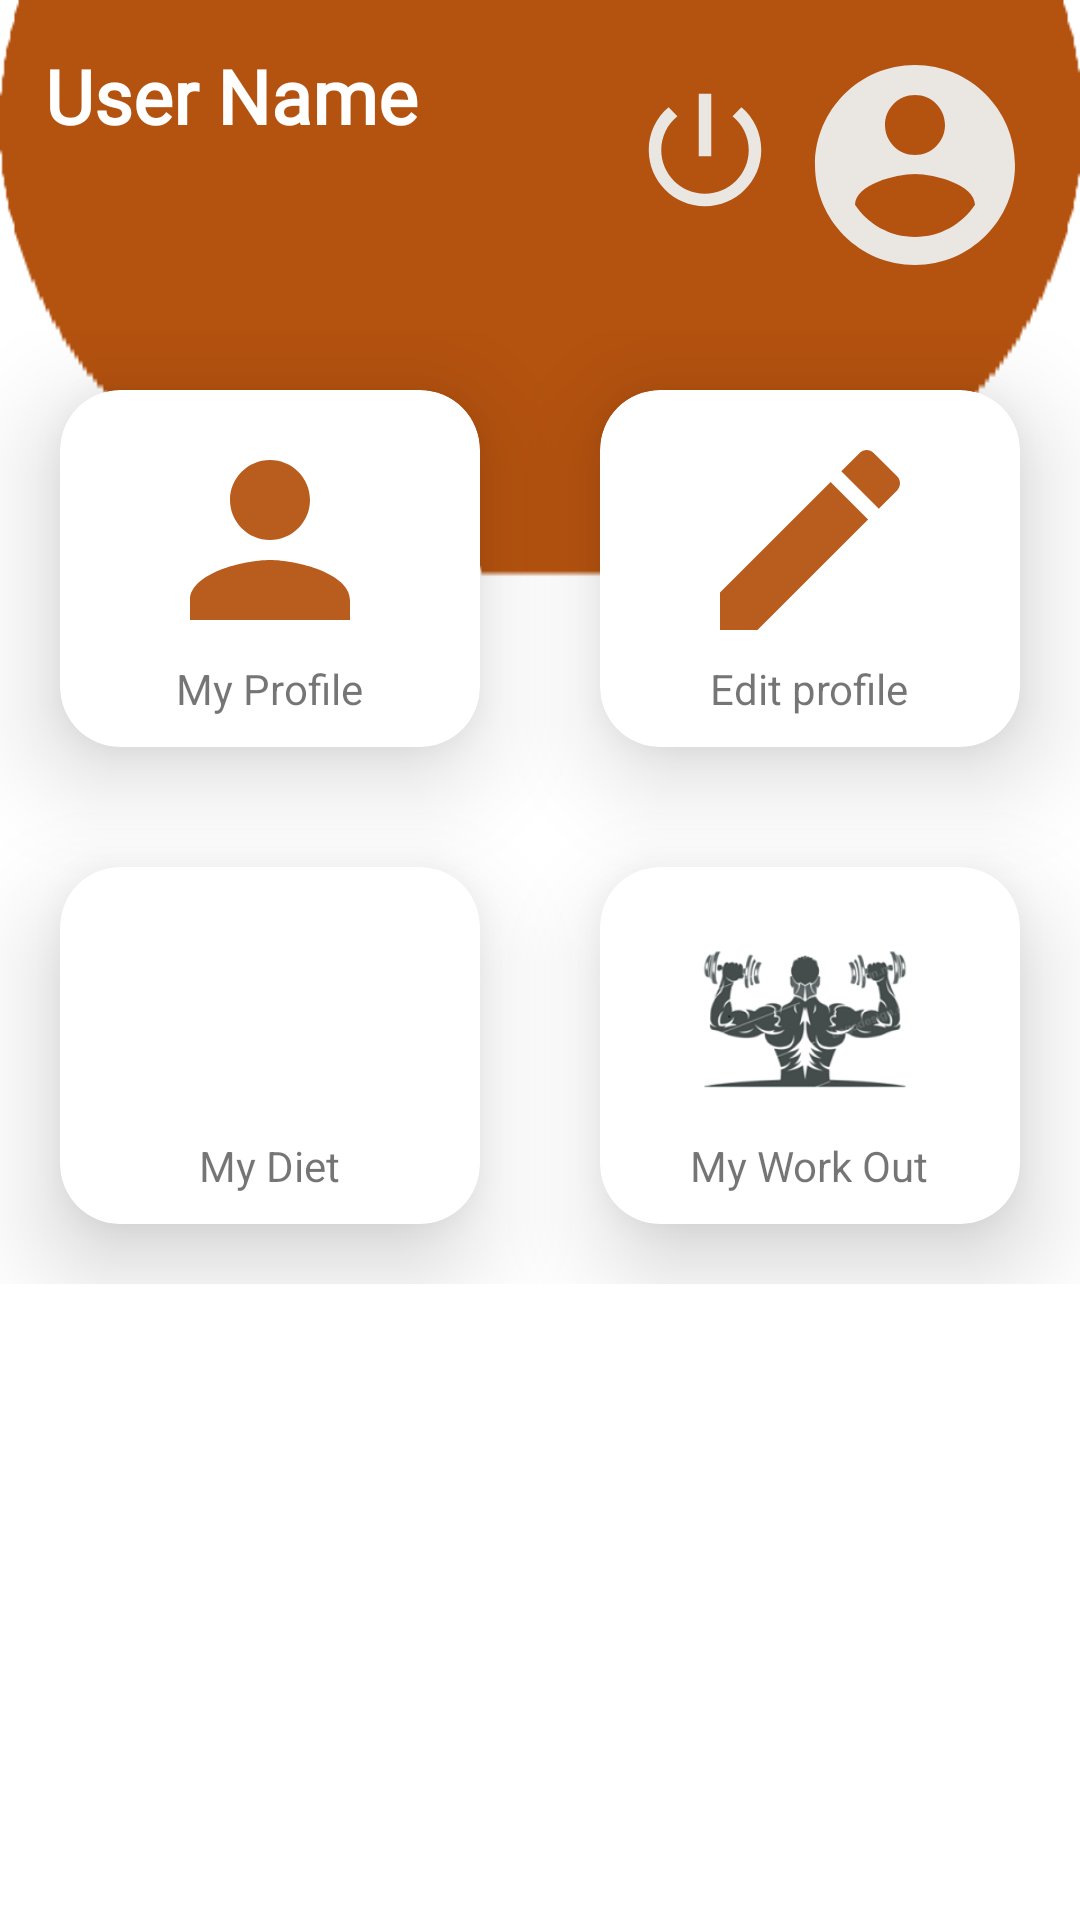

Icon bounding boxes for this 1080px x 1920px phone screenshot, format (x1, y1, x2, y2):
account circle: (815, 65, 1015, 265)
person: (190, 460, 350, 620)
power settings: (648, 93, 762, 207)
